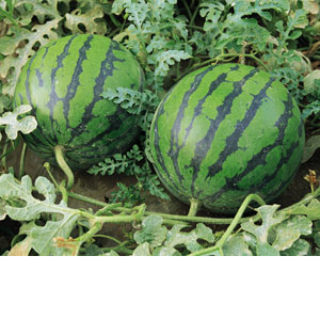dua_hau: (146, 60, 314, 222), (10, 30, 155, 175)
